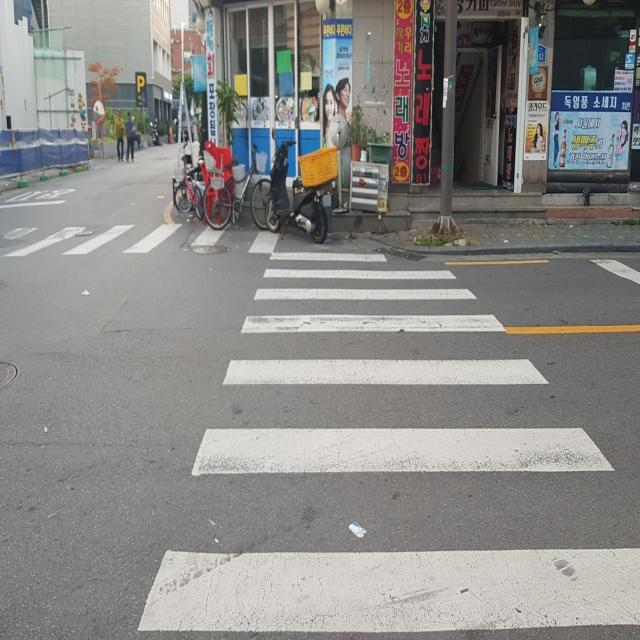횡단보도: (131, 250, 640, 636), (0, 218, 290, 258)
